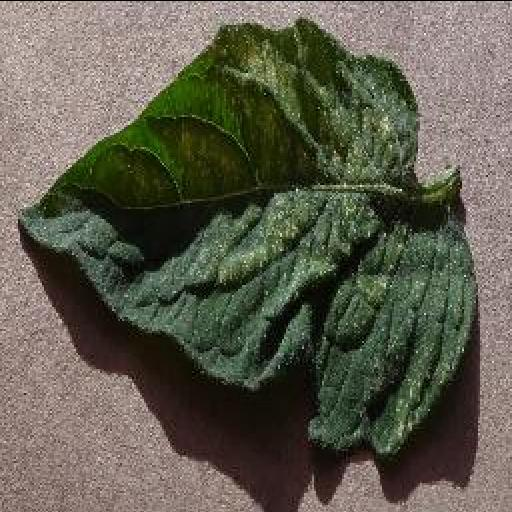disease_tomato: (13, 17, 479, 451)
